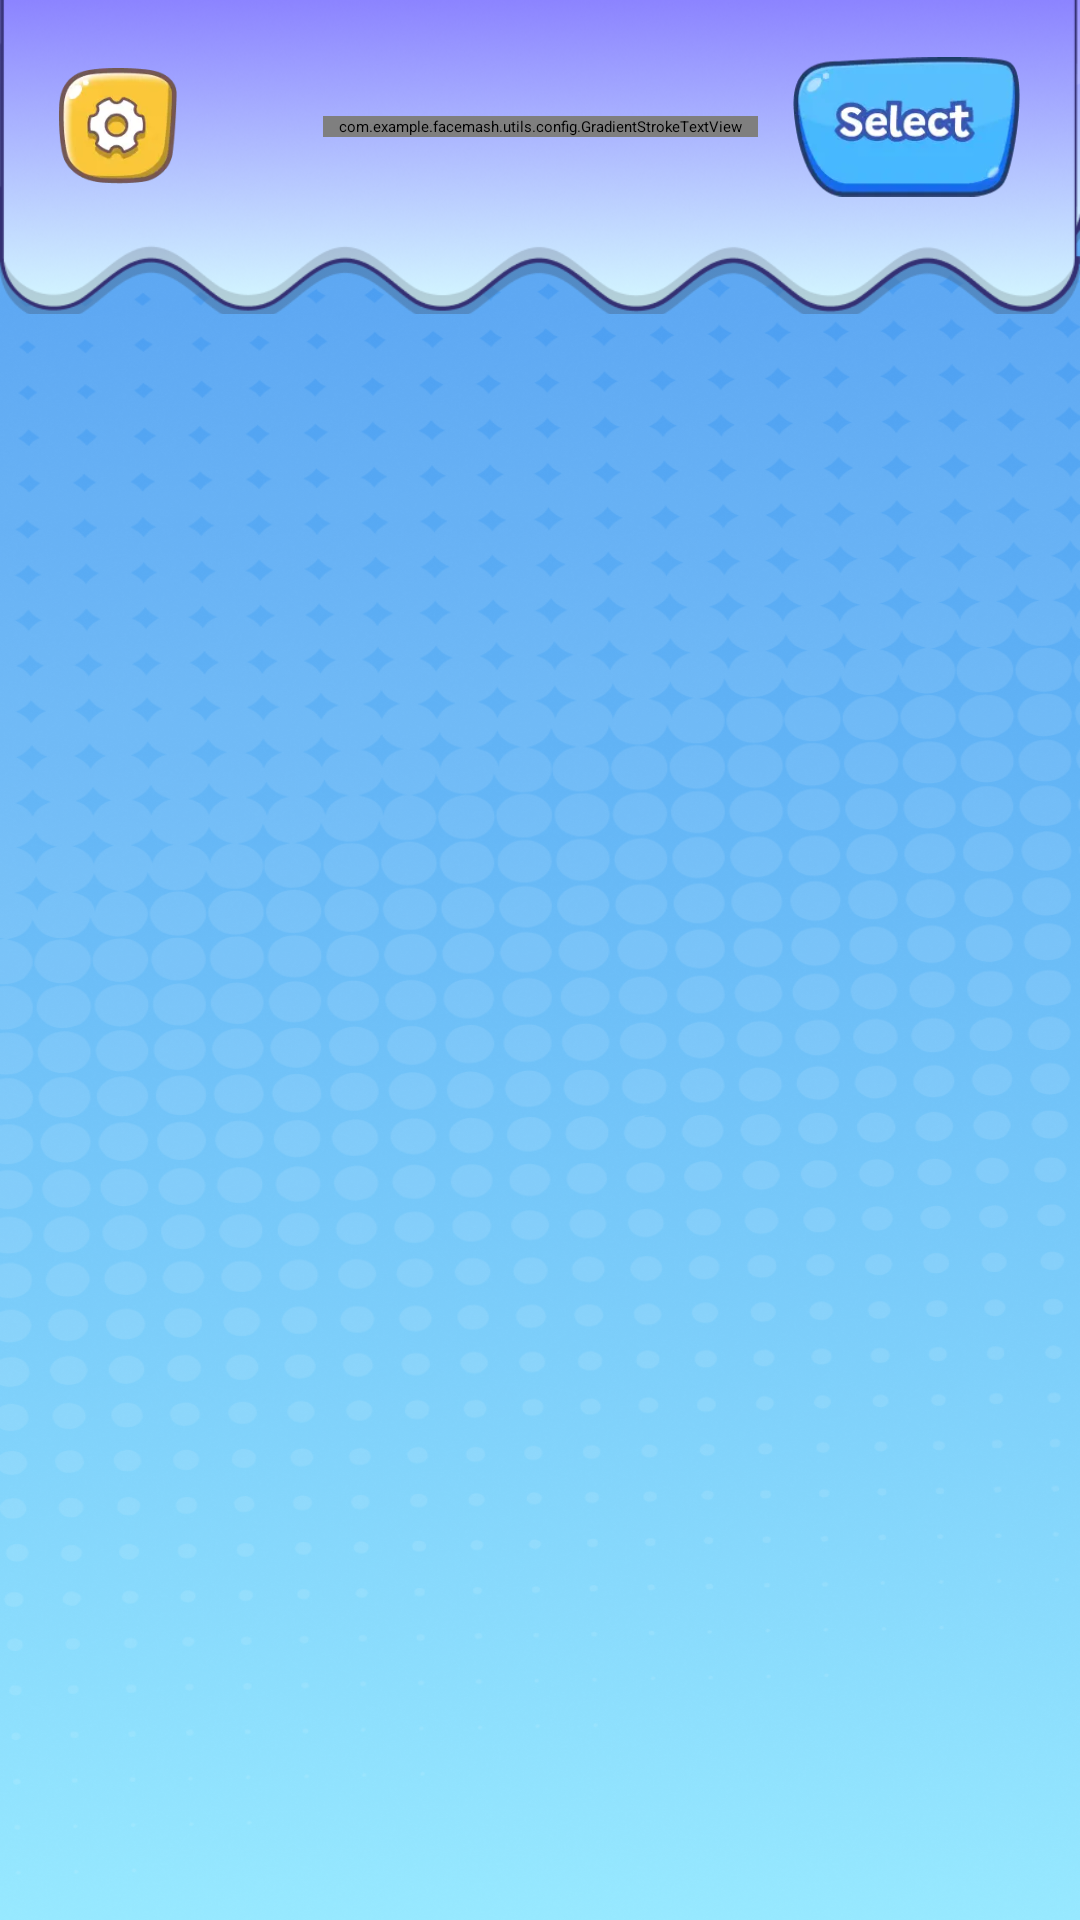

Where to tap for icons on this 1080 × 1920 app screen, as [x,y]:
setting: [118,126]
